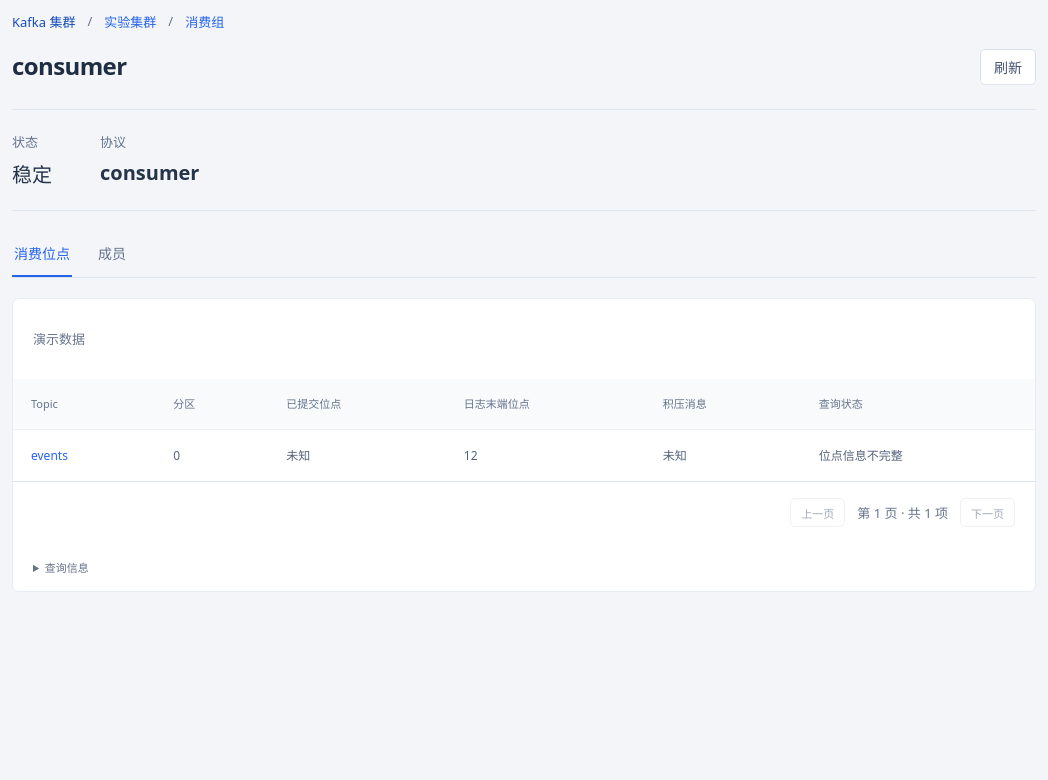
Test case: shows unknown offsets honestly and links back to consumer groups and topics
The width and height of the screenshot is (1048, 780).
Expected: the heading "consumer" is shown, [12,49,126,84]
Expected: the cells read "events", "0", "未知", "12", "未知", "位点信息不完整", in this order, [13,429,155,482]; [155,429,268,482]; [268,429,446,482]; [446,429,645,482]; [645,429,801,482]; [801,429,1035,482]
Click the button "成员".
click(112, 254)  # box [96,231,128,277]
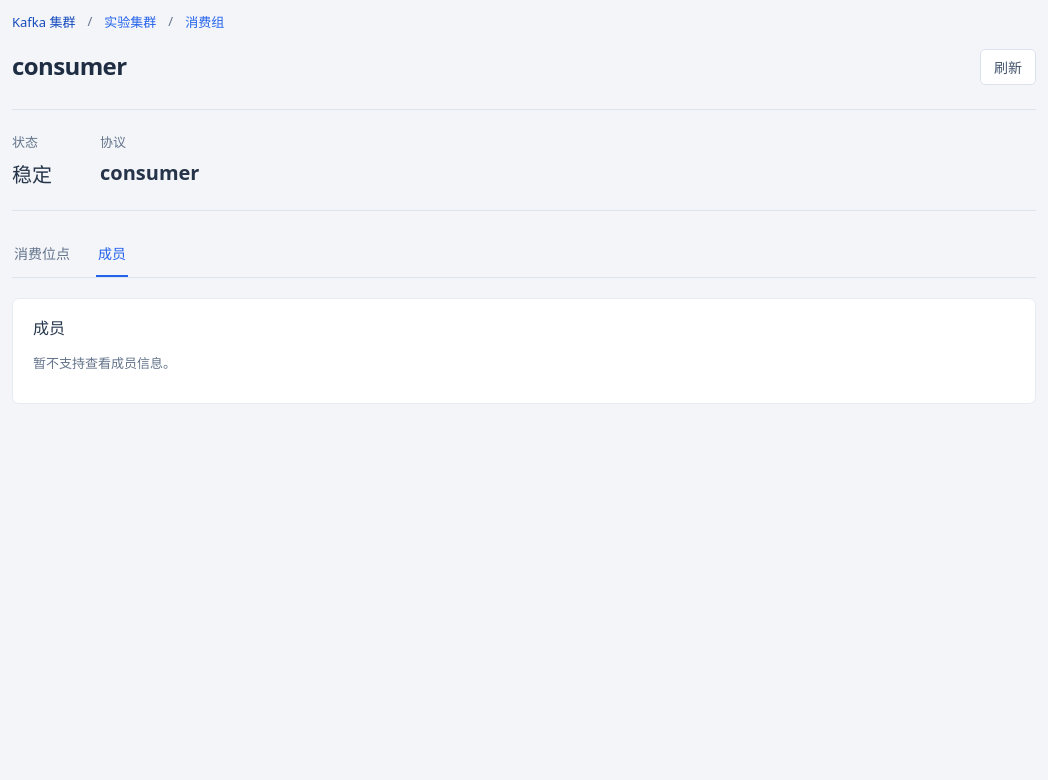
Expected: the text "暂不支持查看成员信息" is shown, [33,354,176,372]
